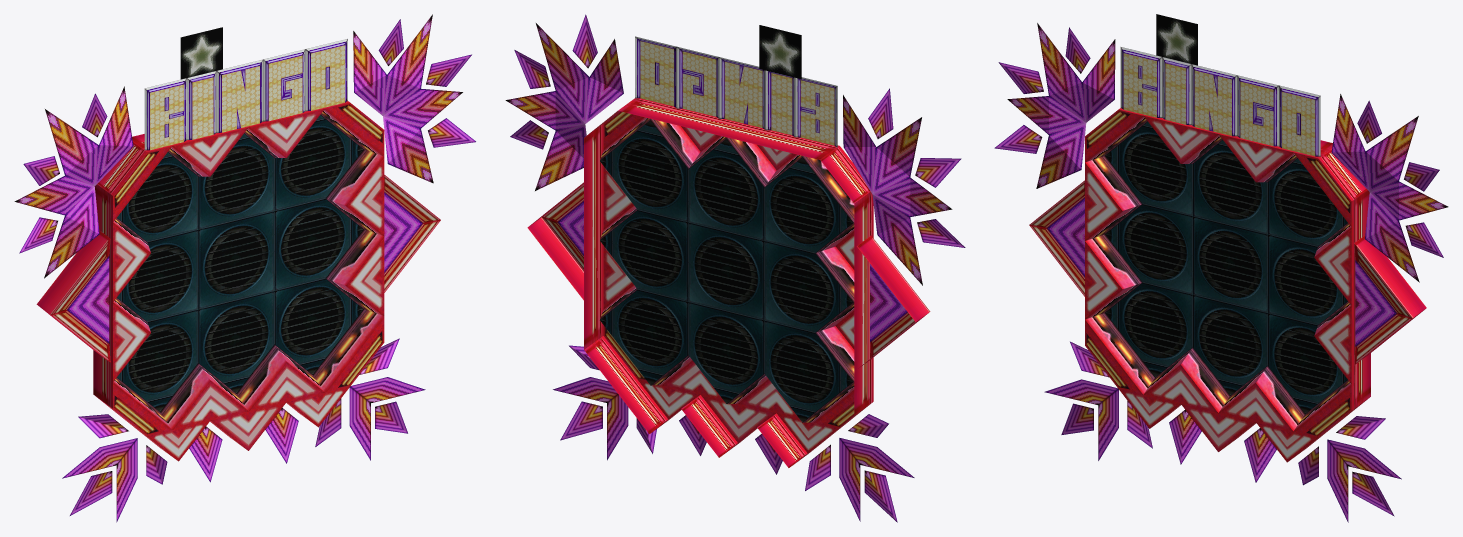
Rendered from bingo.obj.
3 views of the same model, side by side, from view 1: azimuth 30°, elevation 25°; view 2: azimuth 150°, elevation 25°; view 3: azimuth 330°, elevation 25° (orthographic).
Parts seen in each view (by area): view 1: obj1, Object_1; view 2: obj1, Object_1; view 3: obj1, Object_1.
Part boxes in pixels (x1,y1,x2,y2): obj1: [36, 39, 440, 461]; Object_1: [14, 14, 475, 522]; obj1: [527, 36, 930, 467]; Object_1: [505, 14, 965, 522]; obj1: [1029, 47, 1426, 462]; Object_1: [994, 14, 1448, 522].
Bounding box in the file's own units: 270 × 266 × 20.
